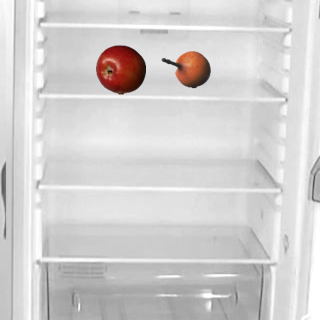Apple Braeburn: (95, 44, 145, 94)
Granadilla: (160, 44, 210, 94)
